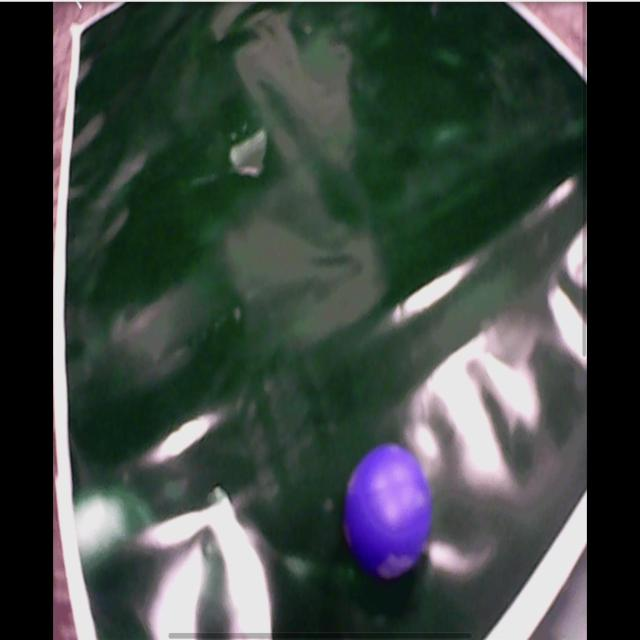ball: (345, 444, 429, 576)
